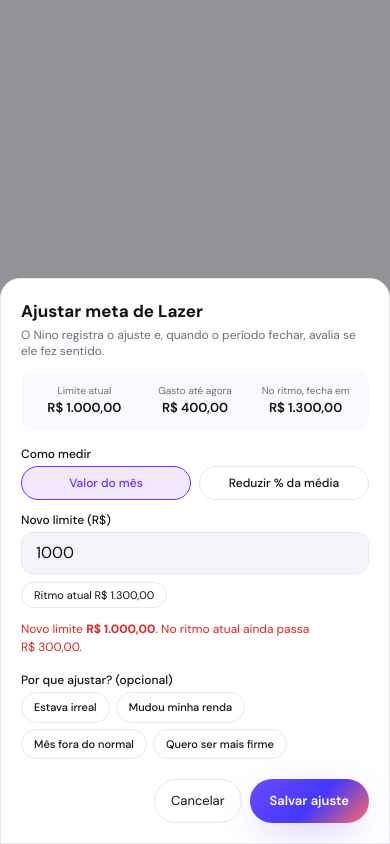
Ajustar meta › só salva depois de mudar algo e envia limite, período original e motivo
The width and height of the screenshot is (390, 844).
Later steps or results of the test are not shown.
Click the button "Salvar ajuste" at (309, 801), box [250, 779, 369, 823]
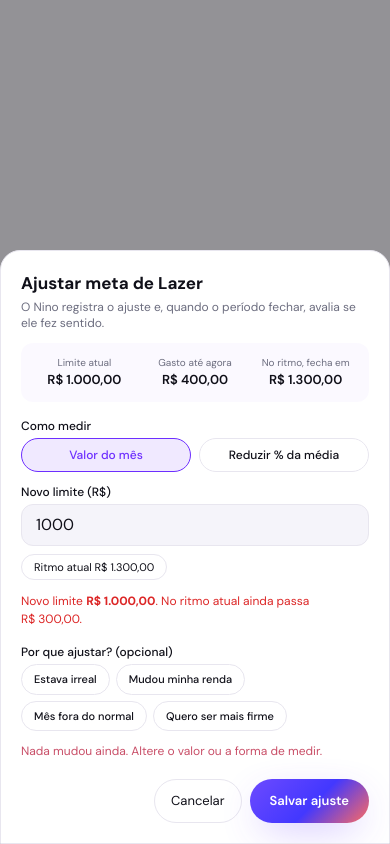
expect the text "Nada mudou ainda. Altere o valor ou a forma de medir." is shown: met, box [21, 743, 369, 759]
Replace the text in the field showing "1000" with "1400" at (195, 524), box [21, 504, 369, 546]
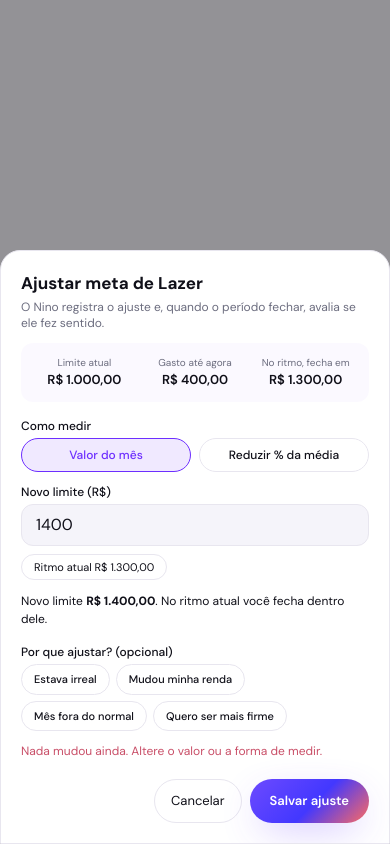
Click the button "Mudou minha renda" at (180, 679), box [116, 664, 245, 694]
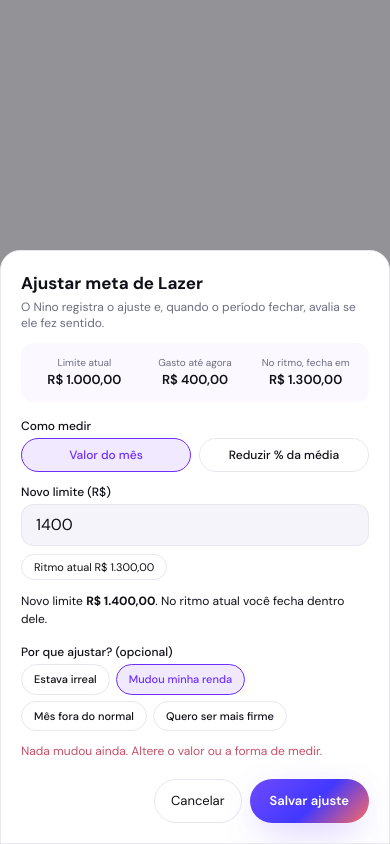
expect the element with test id "adjust-preview" shows "dentro dele": met, box [21, 593, 344, 627]
